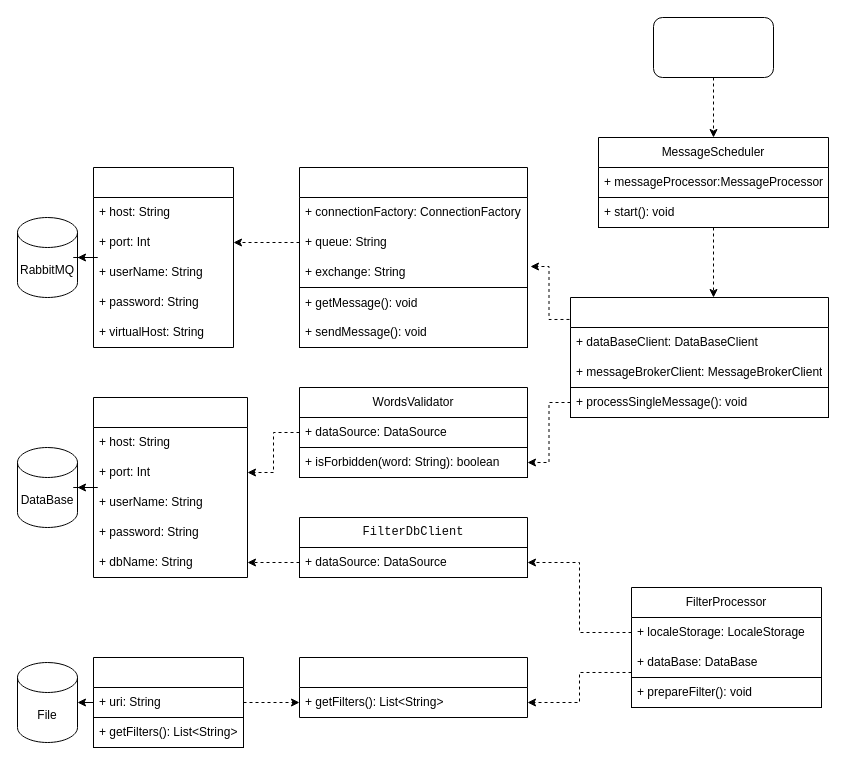
The diagram is 846 pixels wide and 765 high, and some of its shapes have lost their labels. Each missing label, with the box of its shape:
App: (652, 16, 774, 78)
ConnectionFactory: (92, 166, 234, 348)
DataSource: (92, 396, 248, 578)
FilleReader: (92, 656, 244, 748)
LocaleStorage: (298, 656, 528, 718)
MessageBrokerClient: (298, 166, 528, 348)
MessageProcessor: (570, 296, 828, 418)
